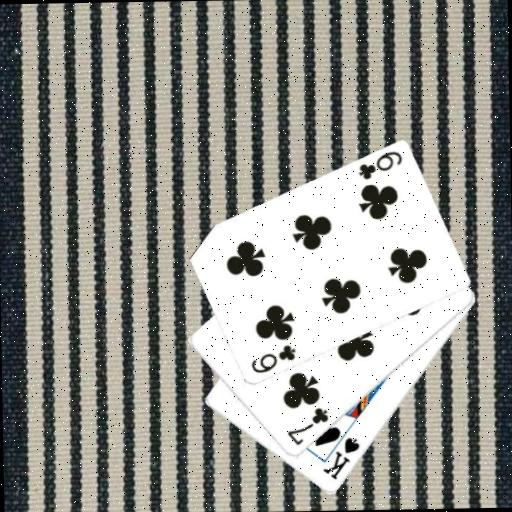6C: (247, 342, 298, 376), (355, 149, 405, 182)
7C: (284, 404, 332, 447)
KS: (320, 434, 363, 482)
